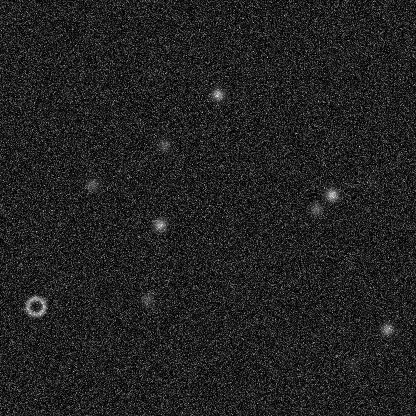Ring: (23, 294, 47, 318)
Spot: (362, 174, 378, 190), (323, 186, 339, 202), (379, 321, 395, 337), (155, 137, 171, 153), (84, 176, 100, 192), (308, 201, 324, 217), (151, 216, 167, 232), (209, 86, 225, 102), (345, 355, 361, 371), (139, 291, 155, 307)
